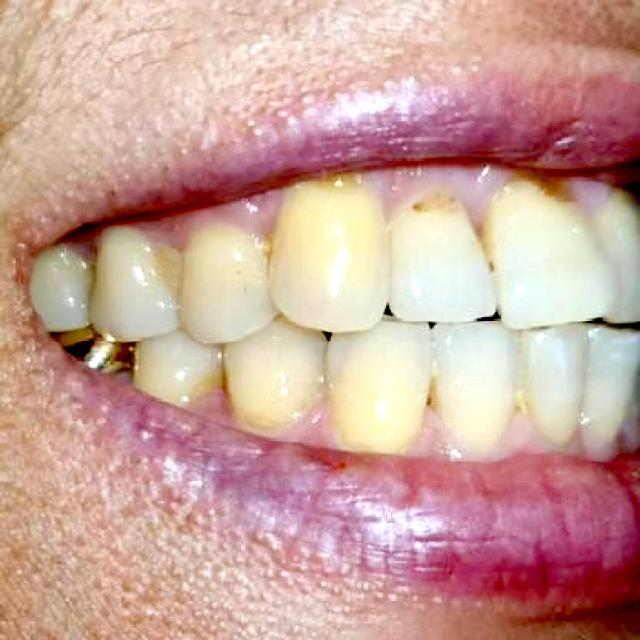Plaque: (132, 224, 199, 272), (513, 176, 579, 208), (485, 258, 498, 278)
